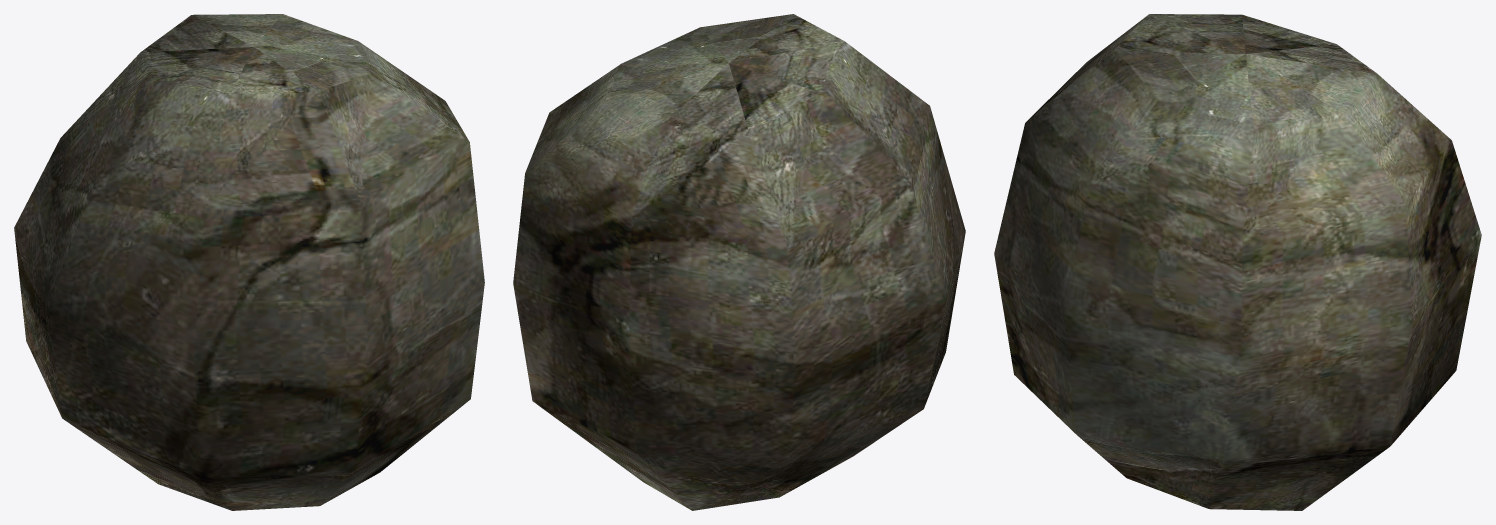
The model's file is snowrock_md.fbx.
3 views of the same model, side by side, from view 1: azimuth 30°, elevation 25°; view 2: azimuth 150°, elevation 25°; view 3: azimuth 270°, elevation 25° (orthographic). The views are drawn at different scales.
Parts seen in each view (by area): view 1: rock_md; view 2: rock_md; view 3: rock_md.
Part boxes in pixels (box(x1,y1,x2,y2)): rock_md: box(14, 14, 484, 510); rock_md: box(513, 14, 965, 510); rock_md: box(994, 14, 1481, 510).
Size of the model in its own units: 172 by 172 by 175.
